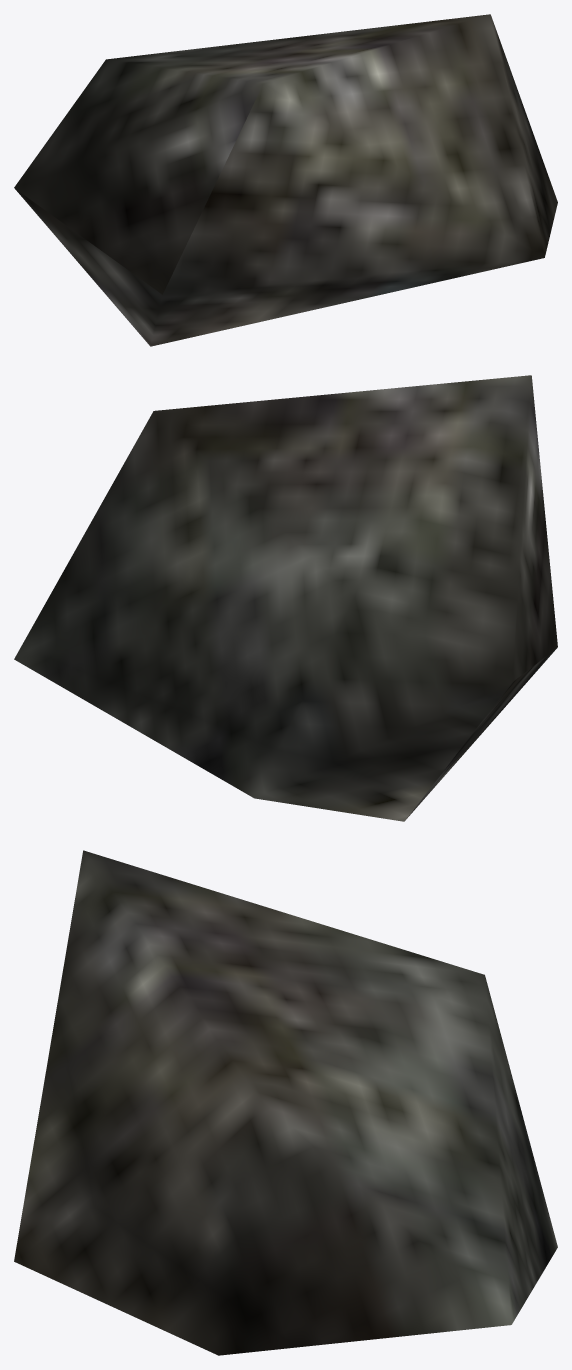
Rendered from Rock2_3.fbx.
The picture shows the model from 3 angles, top to bottom: view 1: azimuth 30°, elevation 25°; view 2: azimuth 150°, elevation 25°; view 3: azimuth 270°, elevation 25°; orthographic projection. The views are drawn at different scales.
Visible parts, largest first — view 1: Rock2_LOD_3; view 2: Rock2_LOD_3; view 3: Rock2_LOD_3.
Boxes of the visible parts, x1,y1,x2,y2 form: Rock2_LOD_3: (14, 14, 557, 346); Rock2_LOD_3: (14, 375, 557, 821); Rock2_LOD_3: (14, 850, 557, 1355).
Size of the model in its own units: 0.9616 by 0.6941 by 0.8015.
